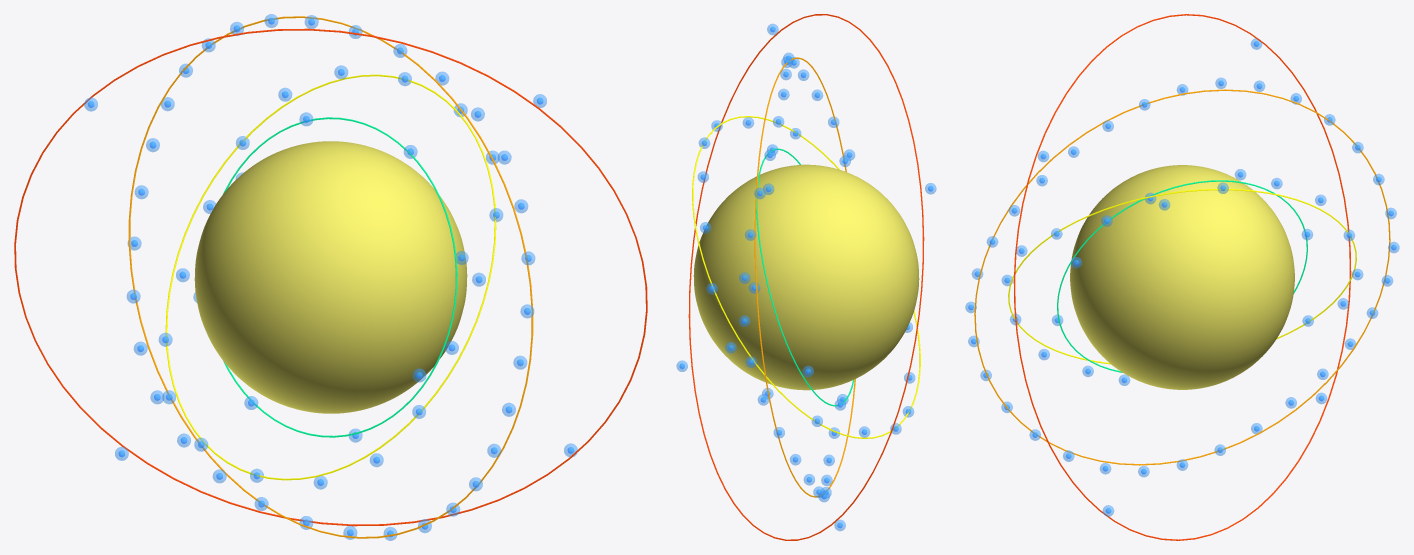
The picture shows the model from 3 angles, left to right: view 1: azimuth 30°, elevation 25°; view 2: azimuth 150°, elevation 25°; view 3: azimuth 270°, elevation 25°; orthographic projection. The views are drawn at different scales.
Visible parts, largest first — view 1: Gd, object 126, object 61, object 24, object 7; view 2: Gd, object 126, object 61, object 24, object 7; view 3: Gd, object 126, object 61, object 24, object 7.
Boxes of the visible parts, x1,y1,x2,y2 form: Gd: (194, 141, 467, 413); object 126: (14, 28, 647, 526); object 61: (128, 16, 533, 538); object 24: (165, 74, 496, 480); object 7: (223, 117, 457, 437); Gd: (693, 164, 919, 390); object 126: (688, 14, 924, 540); object 61: (754, 57, 855, 497); object 24: (692, 116, 920, 438); object 7: (756, 148, 854, 406); Gd: (1070, 165, 1294, 389); object 126: (1013, 14, 1351, 540); object 61: (974, 89, 1390, 465); object 24: (1008, 188, 1356, 364); object 7: (1057, 180, 1307, 372).
Size of the model in its own units: 5.83 by 7 by 5.95.
